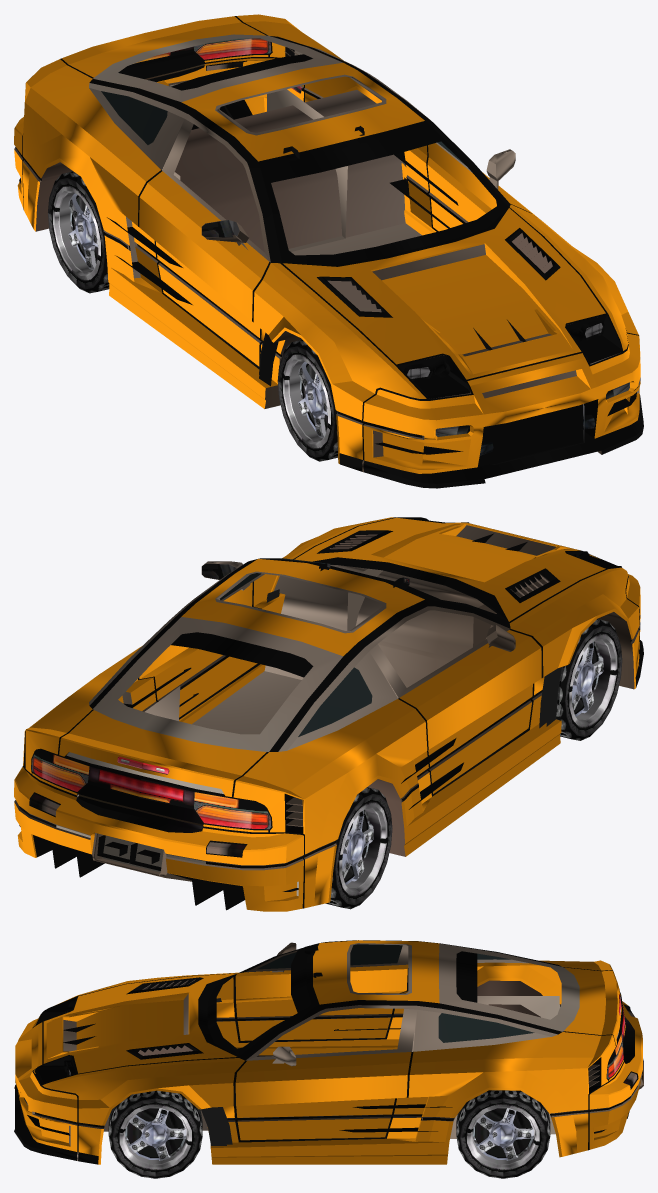
File: kart.glb
3 views of the same model, one above another, from view 1: azimuth 30°, elevation 25°; view 2: azimuth 150°, elevation 25°; view 3: azimuth 270°, elevation 25° (orthographic). The views are drawn at different scales.
Visible parts, largest first — view 1: body_0, body_2, wheel-rear-left, wheel-front-left, body_4, body_3; view 2: body_0, body_2, body_3, wheel-front-left, wheel-rear-left, body_4; view 3: body_0, body_2, wheel-rear-right, wheel-front-right, body_4, body_3.
Part boxes in pixels (x1,y1,x2,y2): body_0: [14, 14, 640, 473]; body_2: [14, 16, 643, 488]; wheel-rear-left: [48, 171, 109, 293]; wheel-front-left: [277, 339, 337, 461]; body_4: [101, 91, 465, 165]; body_3: [136, 38, 301, 93]; body_0: [14, 517, 640, 911]; body_2: [14, 517, 643, 910]; body_3: [31, 750, 271, 829]; wheel-front-left: [556, 619, 622, 740]; wheel-rear-left: [325, 787, 392, 909]; body_4: [220, 558, 372, 736]; body_0: [15, 940, 642, 1164]; body_2: [14, 940, 643, 1164]; wheel-rear-right: [456, 1090, 550, 1178]; wheel-front-right: [108, 1090, 202, 1178]; body_4: [257, 944, 534, 1042]; body_3: [607, 994, 625, 1078].
Size of the model in its own units: 0.7126 by 0.4633 by 1.65.
7 materials, 7 textured.
